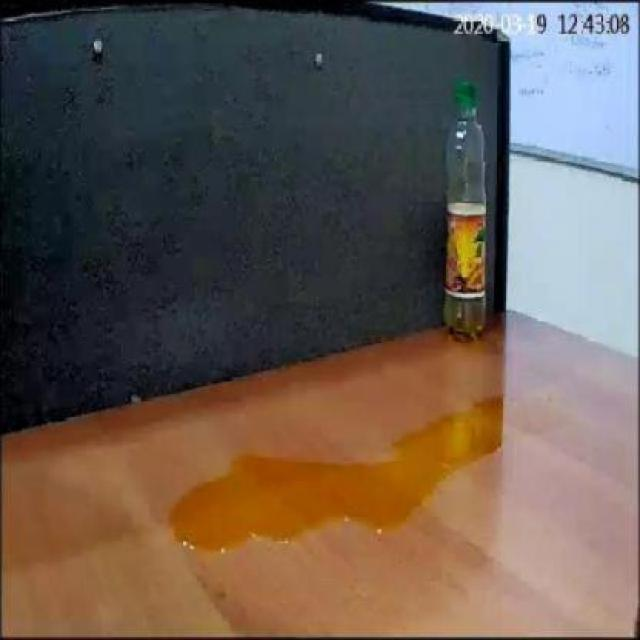spillage: (168, 419, 474, 563)
